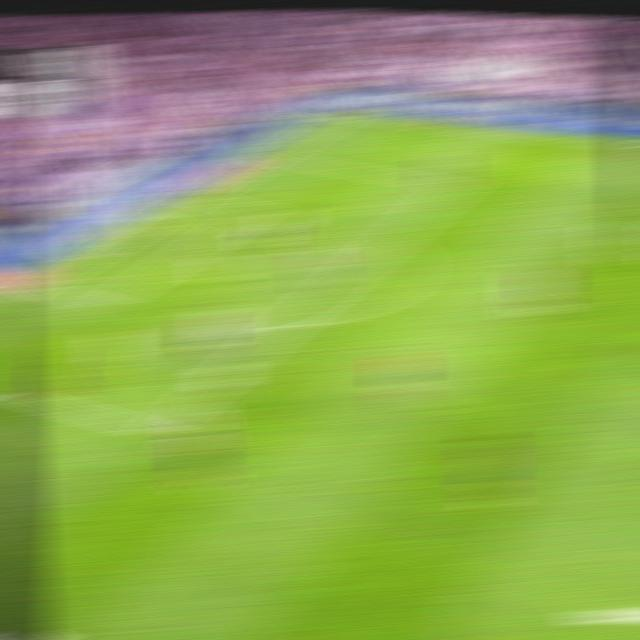bigarea_bottom_inner: (140, 417, 175, 444)
bigarea_top_inner: (441, 177, 472, 193)
bigarea_top_outter: (255, 150, 287, 161)
bottom_arc_area_intersection: (269, 316, 303, 336)
corner: (327, 109, 361, 120)
smallarea_top_inner: (242, 202, 272, 216)
top_arc_area_intersection: (372, 232, 405, 250)
